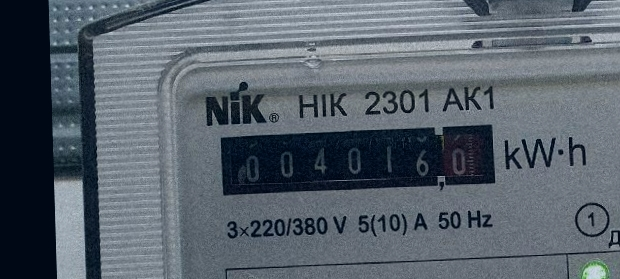0: (343, 142, 365, 178), (241, 150, 263, 184), (276, 146, 296, 181), (447, 144, 468, 177)
1: (381, 140, 397, 175)
4: (310, 142, 329, 177)
6: (411, 144, 431, 177)
screen: (212, 117, 503, 203)
